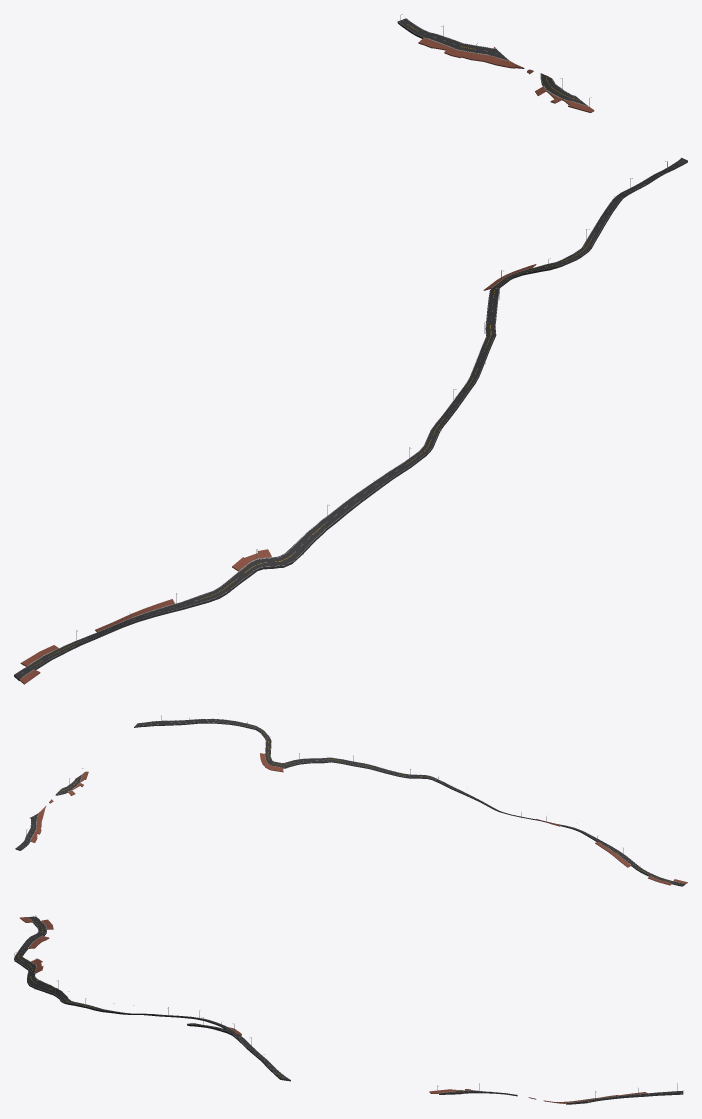
3 views of the same model, one above another, from view 1: azimuth 30°, elevation 25°; view 2: azimuth 150°, elevation 25°; view 3: azimuth 270°, elevation 25° (orthographic). The views are drawn at different scales.
Bounding box in the file's own units: 588 × 150 × 516.
